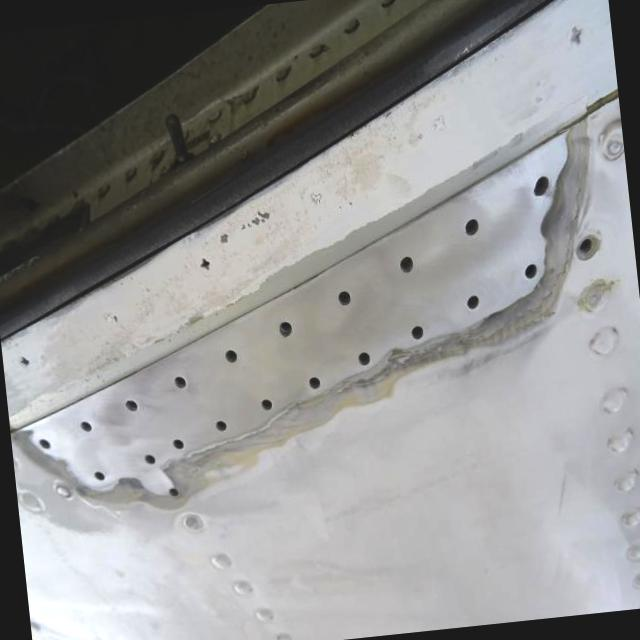Missing Fastener: (24, 412, 64, 458), (108, 382, 150, 422), (574, 224, 608, 270), (72, 404, 100, 450), (528, 167, 558, 201), (270, 311, 300, 344), (351, 338, 377, 376), (408, 316, 437, 348), (327, 278, 354, 312), (162, 366, 191, 396), (131, 444, 158, 474), (298, 369, 326, 397), (394, 248, 419, 278), (162, 477, 188, 505), (167, 426, 189, 457), (462, 207, 482, 240), (216, 345, 242, 370), (256, 388, 279, 416), (459, 283, 482, 311), (208, 415, 232, 441), (521, 258, 540, 290), (86, 470, 105, 492)
